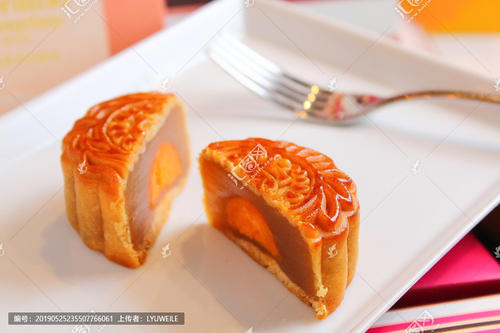MoonCake: (197, 135, 361, 319), (59, 91, 191, 269)
